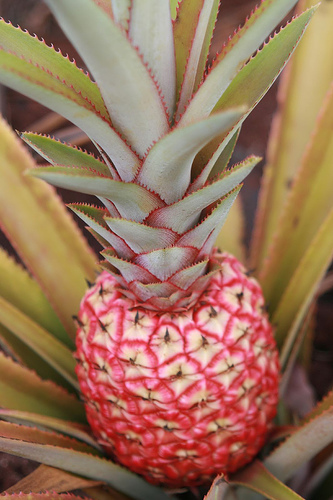pineapple: (0, 1, 327, 487)
